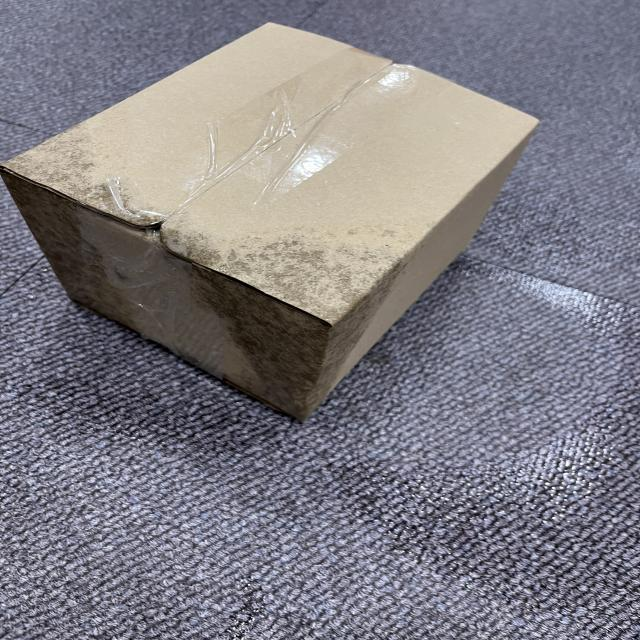wet: (194, 244, 399, 430), (0, 119, 106, 320)
